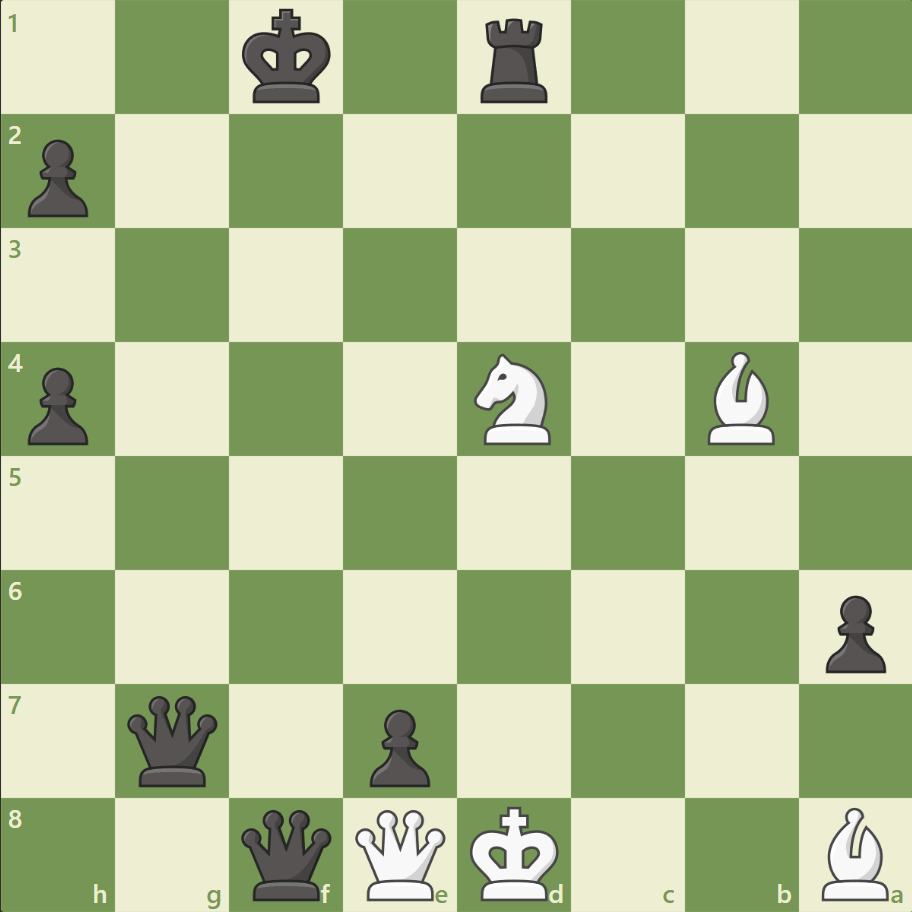B: (812, 801, 896, 904), (698, 347, 782, 449)
K: (465, 798, 565, 906)
N: (465, 348, 562, 450)
Q: (351, 804, 450, 903)
k: (238, 4, 338, 112)
p: (20, 359, 95, 450), (20, 132, 95, 223), (361, 700, 435, 791), (815, 586, 889, 677)
q: (237, 804, 336, 903), (124, 690, 223, 789)
r: (473, 12, 556, 109)
